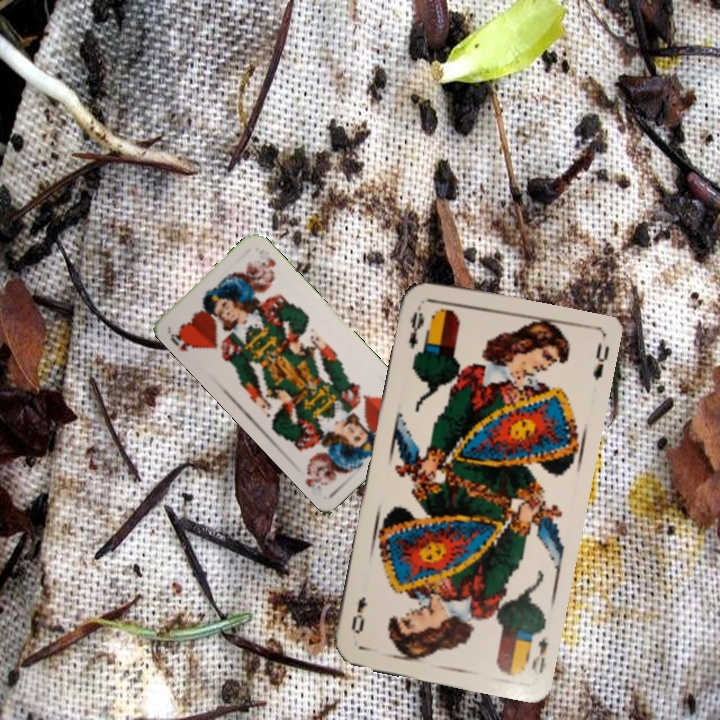EO: (404, 300, 427, 351), (527, 633, 551, 676)
HO: (166, 327, 197, 355)
